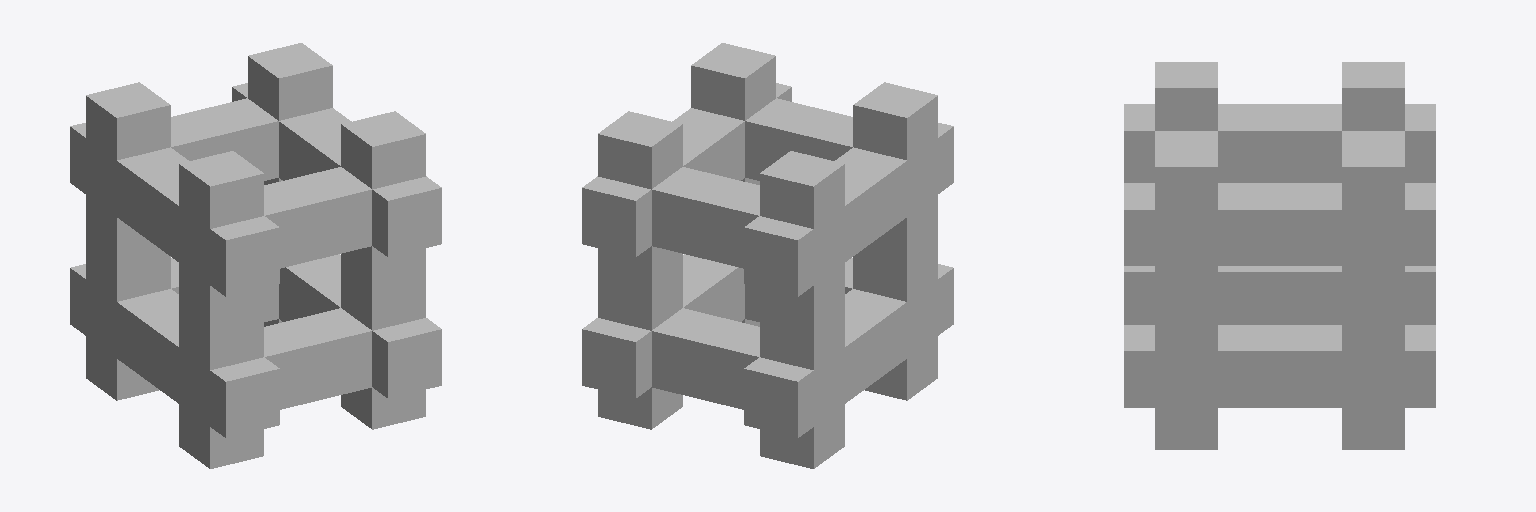
File: bridge_block.obj
The picture shows the model from 3 angles: view 1: azimuth 30°, elevation 25°; view 2: azimuth 150°, elevation 25°; view 3: azimuth 270°, elevation 25°; orthographic projection.
Visible parts, largest first — view 1: bridge_block; view 2: bridge_block; view 3: bridge_block.
Part boxes in pixels (bbox=[...]): bridge_block: bbox=[70, 43, 441, 468]; bridge_block: bbox=[582, 43, 953, 468]; bridge_block: bbox=[1124, 62, 1435, 449].
Bounding box in the file's own units: 0.8 × 1 × 1.